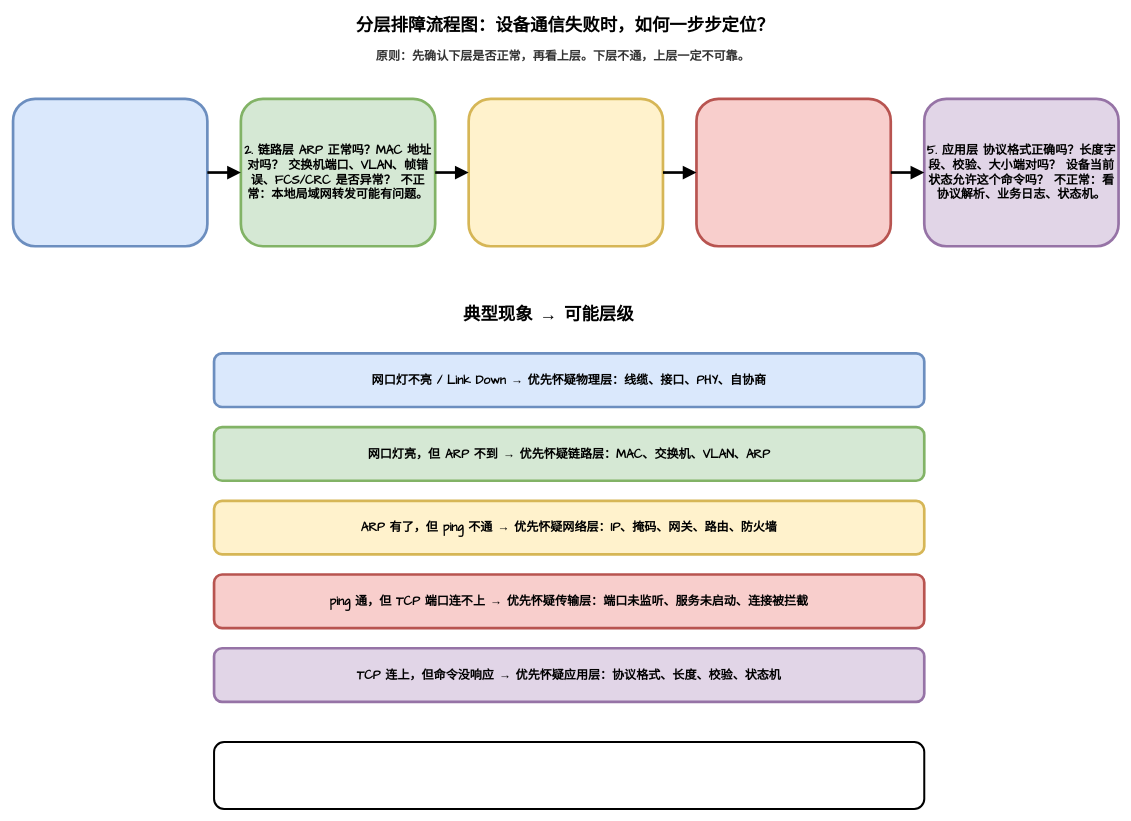
Image size: 1131x821. Some labels were removed from this diagram. The box of each missing label's shape, as (x1, y1, x2, y2) in pixels:
1. 物理层 网口灯亮吗？Link Up 吗？ 线缆、供电、PHY、自协商、速率双工正常吗？ 不正常：先别看 IP/TCP，先修物理链路。: (11, 97, 208, 247)
3. 网络层 IP 地址、子网掩码、网关、路由配置对吗？ 能 ping 通目标吗？是否跨网段？ 不正常：检查 IP 配置、路由、网关、防火墙。: (467, 97, 664, 247)
4. 传输层 TCP 端口能连接吗？服务是否监听？ UDP 包是否到达？是否重传/超时？ 不正常：检查端口、socket、连接队列、防火墙。: (695, 97, 892, 247)
最实用的一句话：不要笼统说“网络坏了”，而要判断“坏在第几层”。 分层思想的工程价值，就是把大问题拆成可以验证的小问题。: (213, 741, 925, 810)
